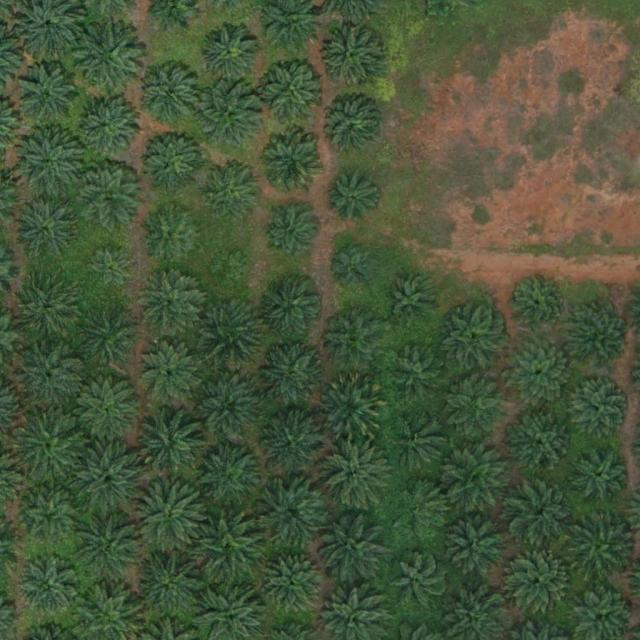Healthy: (256, 274, 327, 345), (16, 129, 87, 200), (75, 444, 146, 515), (134, 482, 205, 553), (135, 550, 206, 621), (505, 339, 576, 410), (257, 56, 327, 127), (193, 80, 263, 151), (195, 297, 265, 368), (14, 342, 84, 413), (75, 511, 145, 582), (136, 407, 206, 478), (192, 440, 262, 511), (319, 439, 390, 509), (316, 512, 387, 582), (443, 512, 513, 583), (508, 409, 578, 480), (508, 480, 578, 551), (569, 511, 639, 582), (74, 25, 144, 95), (257, 342, 327, 412), (194, 374, 264, 444), (15, 407, 85, 477), (192, 513, 262, 583), (256, 480, 326, 550), (444, 445, 514, 515), (135, 64, 198, 127), (320, 24, 383, 87), (142, 204, 205, 267), (137, 271, 200, 334), (137, 341, 200, 404), (77, 95, 140, 158), (79, 306, 142, 369), (15, 196, 78, 259), (450, 377, 513, 440), (509, 550, 572, 613), (17, 65, 79, 128), (197, 24, 260, 86), (322, 95, 384, 158), (322, 309, 384, 372), (204, 161, 266, 224), (140, 129, 202, 192), (78, 165, 140, 228), (78, 379, 140, 442), (14, 279, 76, 342), (260, 413, 322, 476), (262, 552, 324, 615), (442, 309, 505, 371), (570, 309, 632, 372), (260, 133, 322, 195), (18, 557, 80, 619), (570, 377, 632, 439), (572, 446, 634, 508), (325, 173, 380, 228), (384, 274, 439, 329), (394, 349, 449, 404), (263, 206, 318, 261), (22, 493, 77, 548), (391, 418, 446, 473), (393, 483, 448, 538), (390, 554, 445, 609), (510, 276, 564, 331)
Small: (86, 247, 133, 294), (333, 248, 372, 287), (209, 250, 248, 289)
Yellow: (317, 374, 387, 444)
